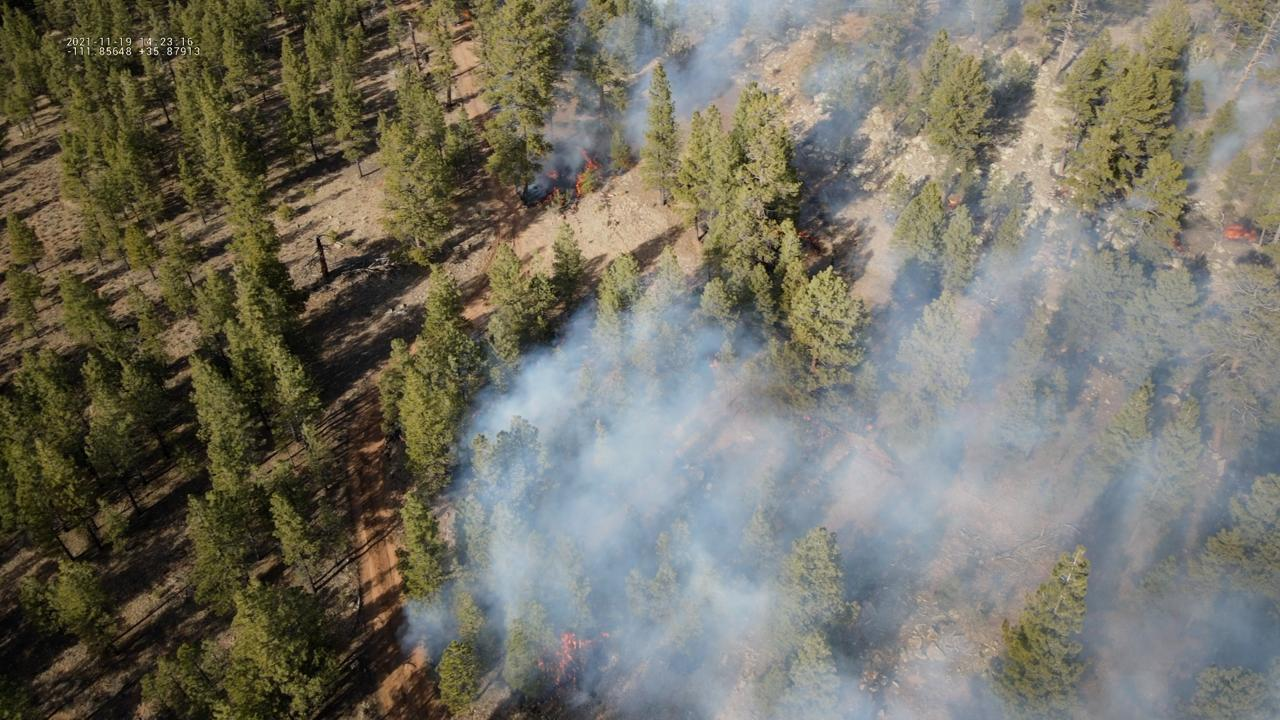fire: (533, 629, 610, 689), (574, 147, 599, 198), (1221, 222, 1257, 244), (541, 187, 560, 206), (543, 170, 559, 180), (796, 231, 811, 240), (948, 198, 957, 205)
smoke: (391, 0, 1280, 720)
